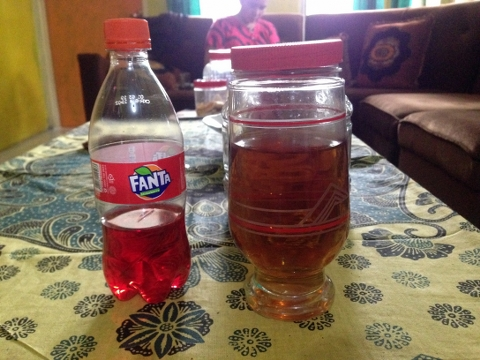tempat minum: (225, 75, 352, 321), (88, 17, 192, 303)
